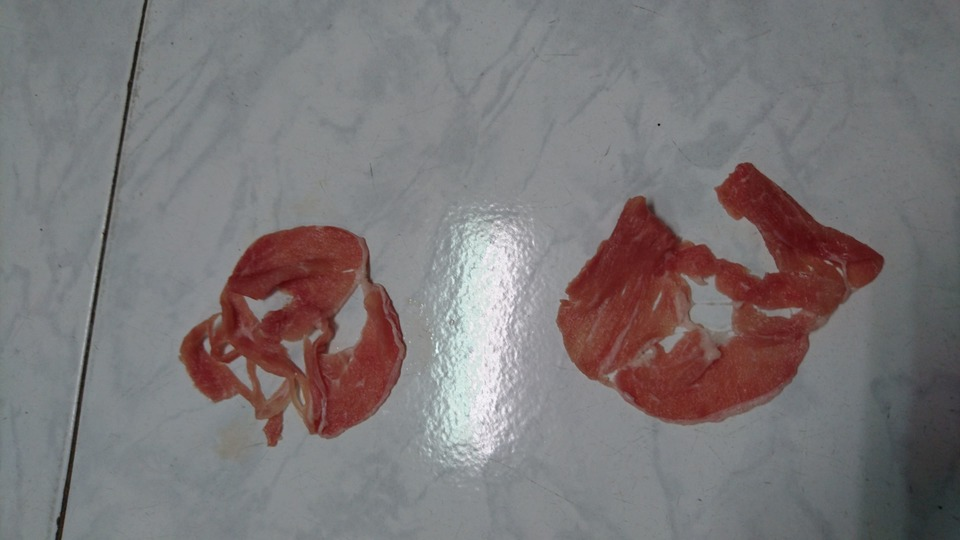restructured meat: (547, 158, 882, 423), (177, 212, 410, 447)
